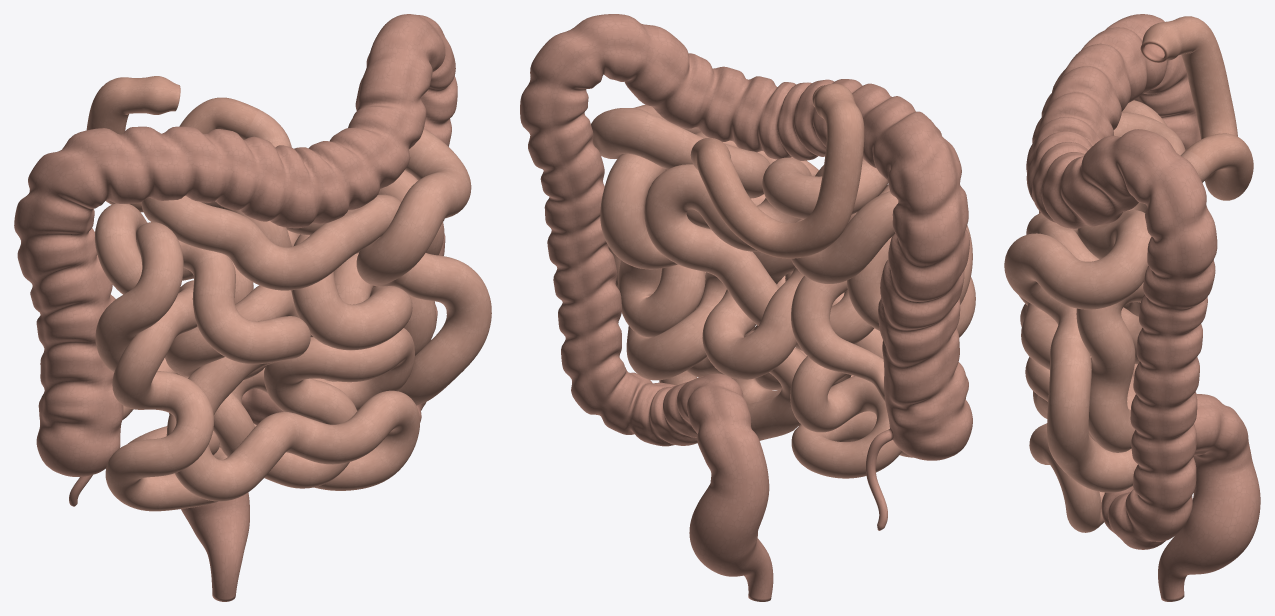
Rendered from whole.glb.
The picture shows the model from 3 angles, left to right: view 1: azimuth 30°, elevation 25°; view 2: azimuth 150°, elevation 25°; view 3: azimuth 270°, elevation 25°; orthographic projection. The views are drawn at different scales.
Visible parts, largest first — view 1: Ileum, Jejunum, Transverse colon, Ascending colon, Right colic flexure, Caecum, Duodenum, Left colic flexure, Rectum, Descending colon, Proximal duodenum, Anal canal (+1 smaller); view 2: Jejunum, Ileum, Descending colon, Transverse colon, Ascending colon, Sigmoid colon, Duodenum, Right colic flexure, Left colic flexure, Caecum, Rectum, Appendix (+2 smaller); view 3: Jejunum, Descending colon, Transverse colon, Sigmoid colon, Duodenum, Rectum, Left colic flexure, Ileum, Ascending colon, Right colic flexure, Proximal duodenum, Anal canal.
Part boxes in pixels (x1=…): Ileum: x1=94, y1=203, x2=419, y2=511; Jejunum: x1=141, y1=109, x2=491, y2=405; Transverse colon: x1=130, y1=58, x2=430, y2=228; Ascending colon: x1=14, y1=181, x2=115, y2=395; Right colic flexure: x1=28, y1=127, x2=133, y2=220; Caecum: x1=36, y1=385, x2=123, y2=476; Duodenum: x1=86, y1=77, x2=259, y2=212; Left colic flexure: x1=366, y1=14, x2=451, y2=81; Rectum: x1=181, y1=492, x2=249, y2=556; Descending colon: x1=421, y1=49, x2=457, y2=331; Proximal duodenum: x1=137, y1=76, x2=180, y2=114; Anal canal: x1=208, y1=555, x2=242, y2=601; Jejunum: x1=591, y1=104, x2=887, y2=380; Ileum: x1=659, y1=184, x2=975, y2=478; Descending colon: x1=520, y1=51, x2=621, y2=361; Transverse colon: x1=624, y1=26, x2=915, y2=168; Ascending colon: x1=878, y1=195, x2=969, y2=396; Sigmoid colon: x1=561, y1=351, x2=769, y2=506; Duodenum: x1=693, y1=95, x2=864, y2=258; Right colic flexure: x1=873, y1=107, x2=966, y2=202; Left colic flexure: x1=539, y1=14, x2=658, y2=88; Caecum: x1=884, y1=365, x2=972, y2=460; Rectum: x1=689, y1=485, x2=769, y2=576; Appendix: x1=865, y1=429, x2=892, y2=530; Jejunum: x1=1004, y1=112, x2=1209, y2=492; Descending colon: x1=1130, y1=187, x2=1217, y2=489; Transverse colon: x1=1026, y1=27, x2=1148, y2=228; Sigmoid colon: x1=1101, y1=394, x2=1253, y2=549; Duodenum: x1=1170, y1=16, x2=1253, y2=200; Rectum: x1=1161, y1=465, x2=1260, y2=575; Left colic flexure: x1=1097, y1=129, x2=1203, y2=210; Ileum: x1=1019, y1=100, x2=1167, y2=532; Ascending colon: x1=1134, y1=77, x2=1200, y2=150; Right colic flexure: x1=1105, y1=14, x2=1187, y2=94; Proximal duodenum: x1=1140, y1=21, x2=1186, y2=62; Anal canal: x1=1158, y1=555, x2=1186, y2=601.
Size of the model in its own units: 0.3453 by 0.4118 by 0.1753.
Materials: 8 (8 with a texture image).
